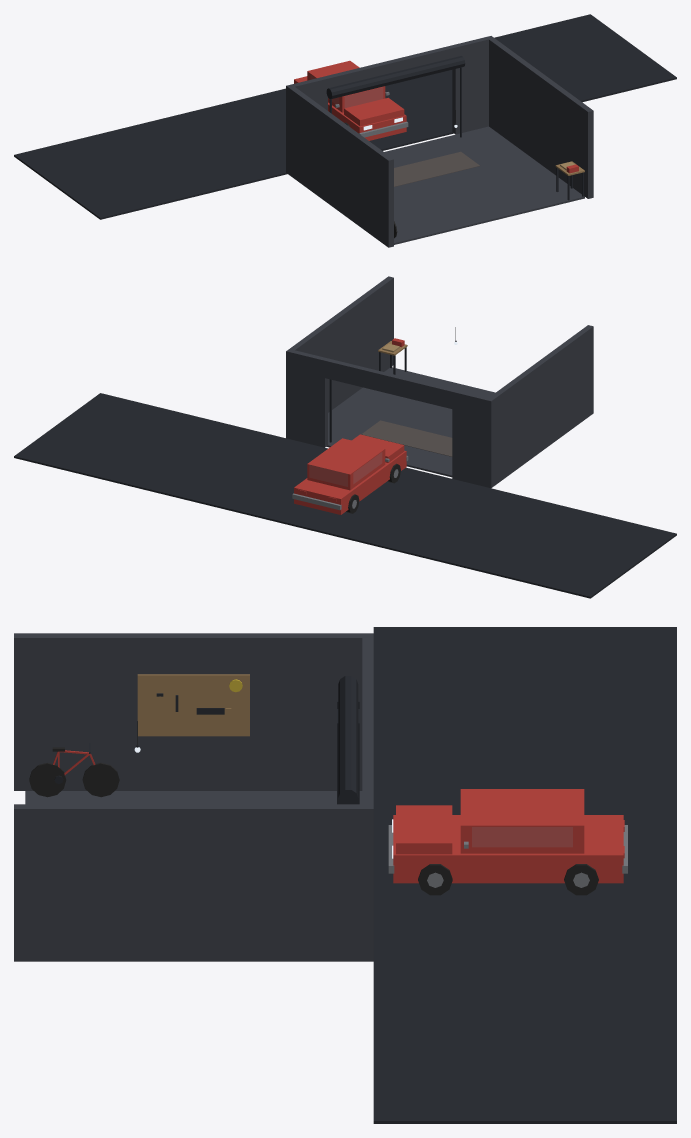
File: stage_1.glb
The picture shows the model from 3 angles, top to bottom: view 1: azimuth 30°, elevation 25°; view 2: azimuth 150°, elevation 25°; view 3: azimuth 270°, elevation 25°; orthographic projection. The views are drawn at different scales.
Visible parts, largest first — view 1: floor, walls, prop_civic, props_stage_1, hot_tiles; view 2: floor, walls, prop_civic, hot_tiles, props_stage_1; view 3: floor, walls, prop_civic, props_stage_1.
Part boxes in pixels (<box>): floor: <box>14,14,676,244</box>; walls: <box>286,36,593,247</box>; prop_civic: <box>294,60,408,140</box>; props_stage_1: <box>326,56,584,238</box>; hot_tiles: <box>394,151,479,186</box>; floor: <box>14,367,676,598</box>; walls: <box>286,276,593,488</box>; prop_civic: <box>292,434,408,514</box>; hot_tiles: <box>361,420,452,456</box>; props_stage_1: <box>329,327,457,442</box>; floor: <box>25,627,676,1123</box>; walls: <box>14,633,373,961</box>; prop_civic: <box>388,789,627,895</box>; props_stage_1: <box>29,674,530,890</box>.
Size of the model in its own units: 20.8 by 3.06 by 11.8.
